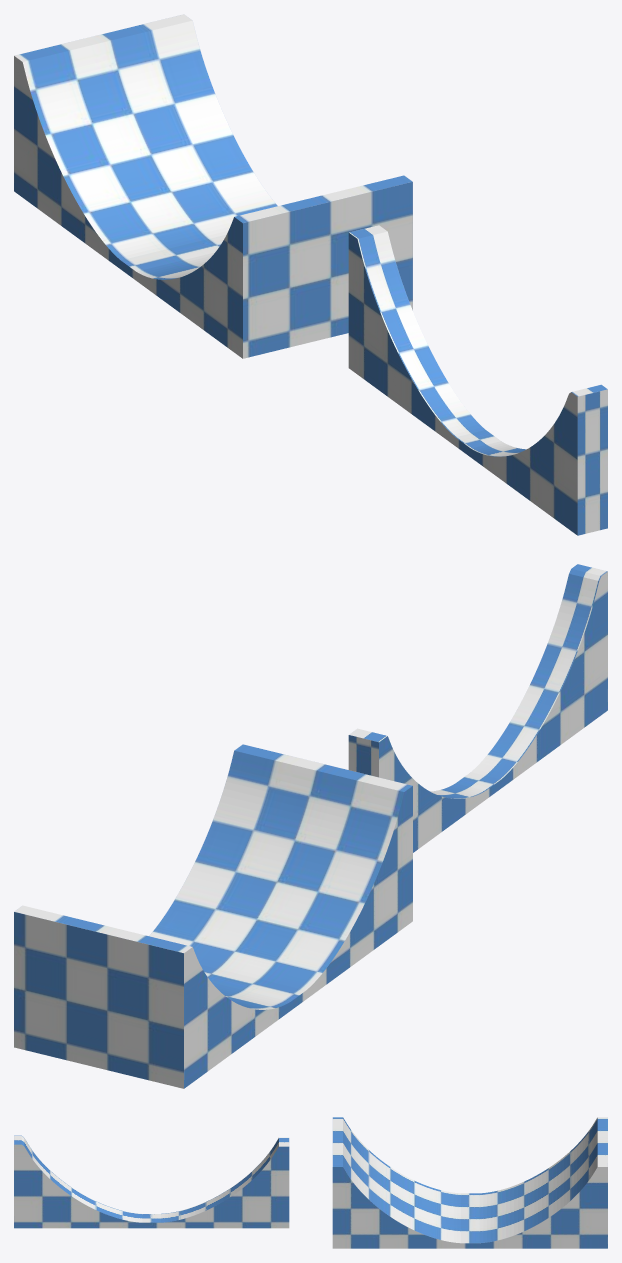
The model's file is Halfpipe.fbx.
3 renders of one model, top to bottom at view 1: azimuth 30°, elevation 25°; view 2: azimuth 150°, elevation 25°; view 3: azimuth 270°, elevation 25°, orthographic. The views are drawn at different scales.
Visible parts, largest first — view 1: Halfpipe, Skinny Halfpipe; view 2: Halfpipe, Skinny Halfpipe; view 3: Halfpipe, Skinny Halfpipe.
Part boxes in pixels (bbox=[...]): Halfpipe: bbox=[14, 14, 412, 358]; Skinny Halfpipe: bbox=[348, 225, 607, 535]; Halfpipe: bbox=[14, 744, 412, 1088]; Skinny Halfpipe: bbox=[348, 564, 607, 852]; Halfpipe: bbox=[332, 1117, 607, 1248]; Skinny Halfpipe: bbox=[14, 1135, 289, 1228].
Bounding box in the file's own units: 1000 × 781 × 5030.
Materials: 1 (1 with a texture image).
